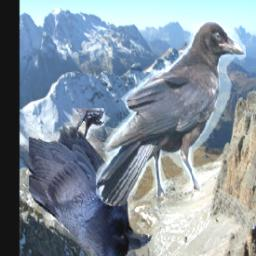Crow: (95, 22, 245, 207), (28, 108, 152, 256)
